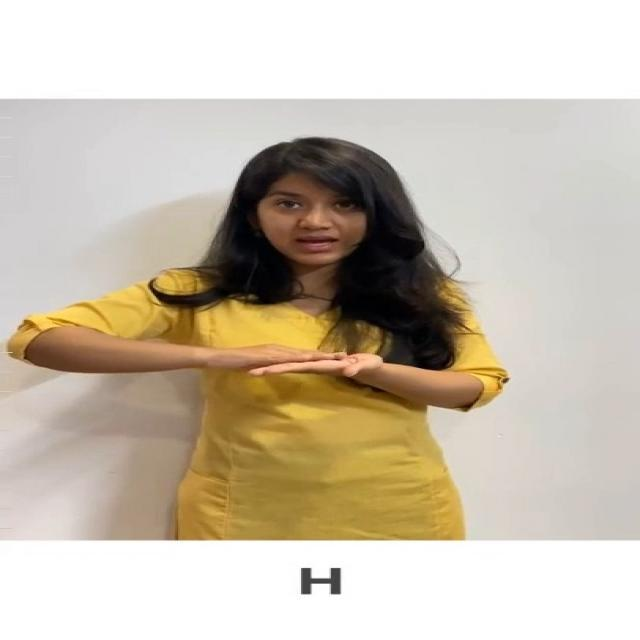H: (185, 328, 413, 400)
